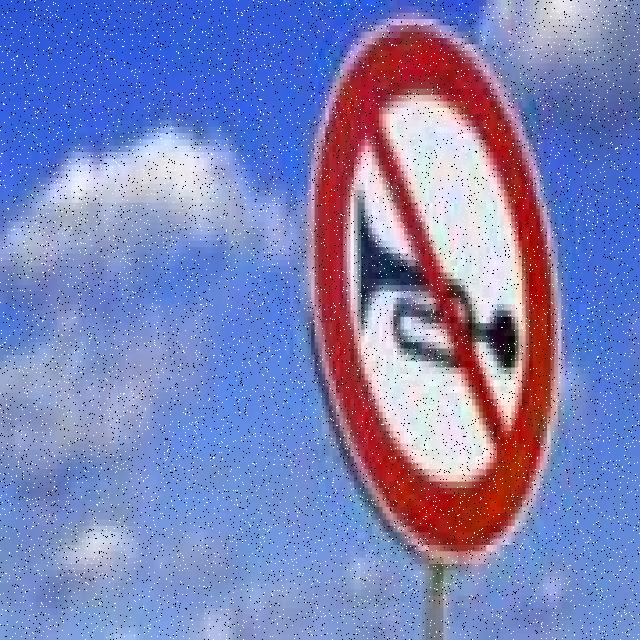No_Horn: (308, 22, 556, 563)
